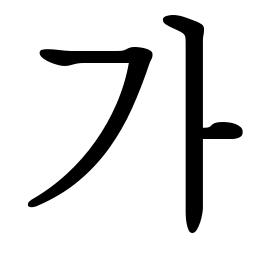Gaji: (170, 113, 226, 160)
